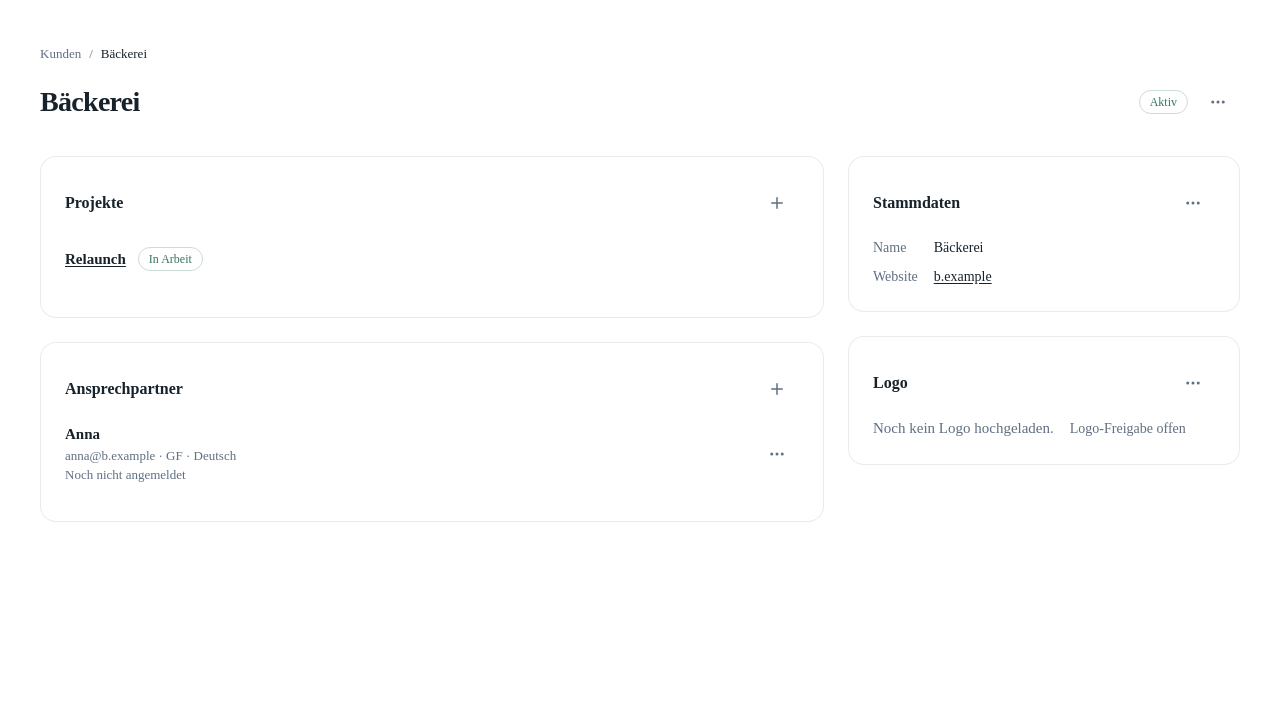
Scenario: Formulare hinter Buttons › AK-7: Kundenseite ohne offenes Formular, Dialoge mit eindeutigen Buttons
Click the button named "Aktionen: Bäckerei" at point(1218, 102), box 1196,80 -> 1240,124
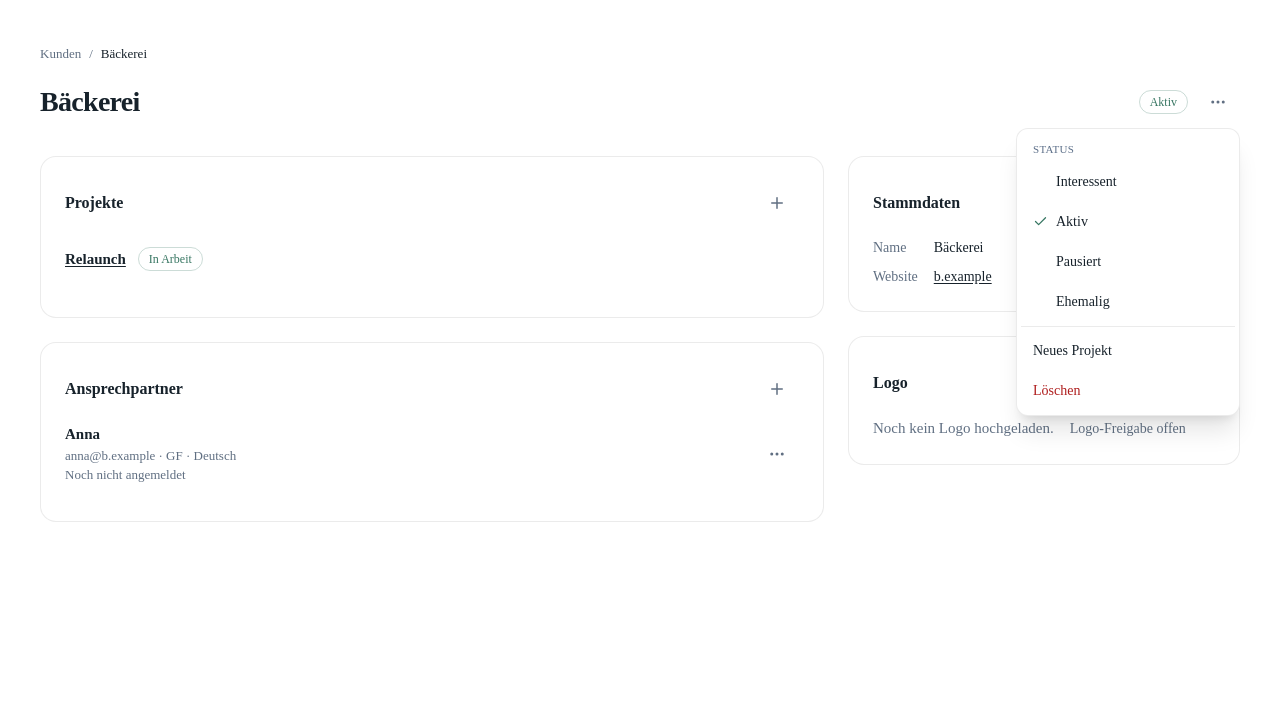
Press Escape in the menu named "Aktionen: Bäckerei", box 1016,128 -> 1240,416
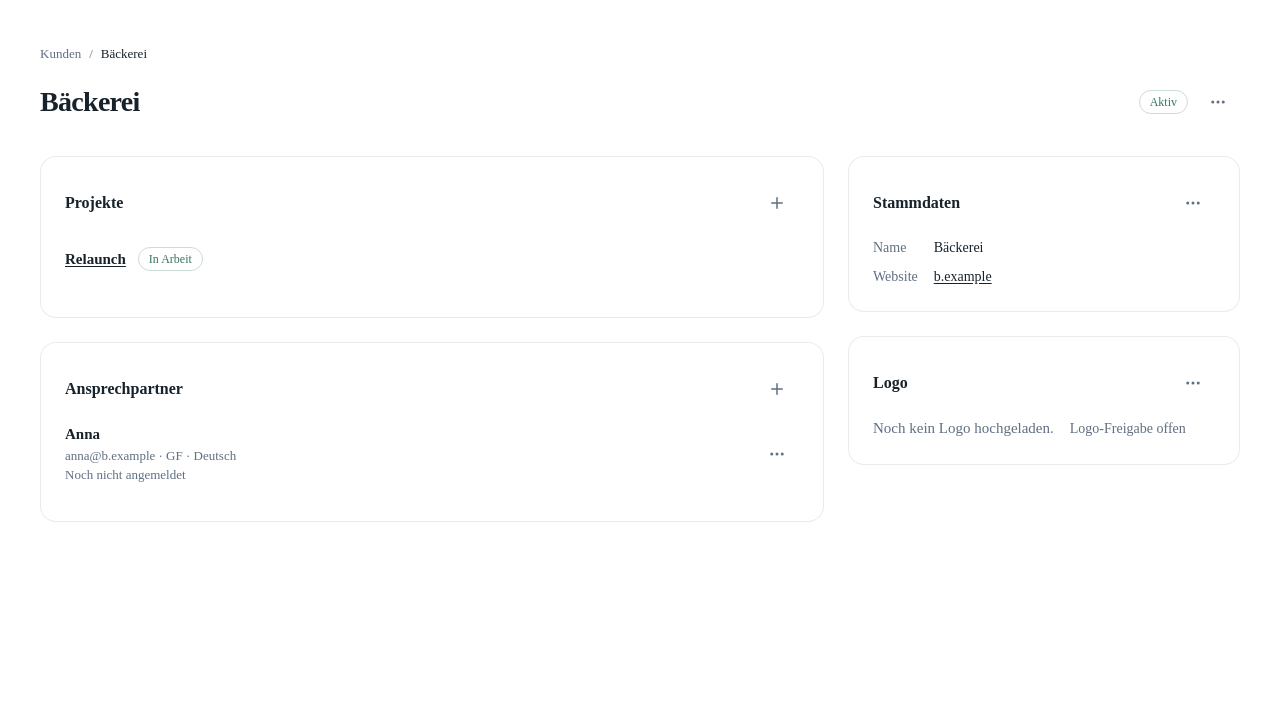
Click the button named "Aktionen: Logo" at point(1193, 383), box 1171,361 -> 1215,405
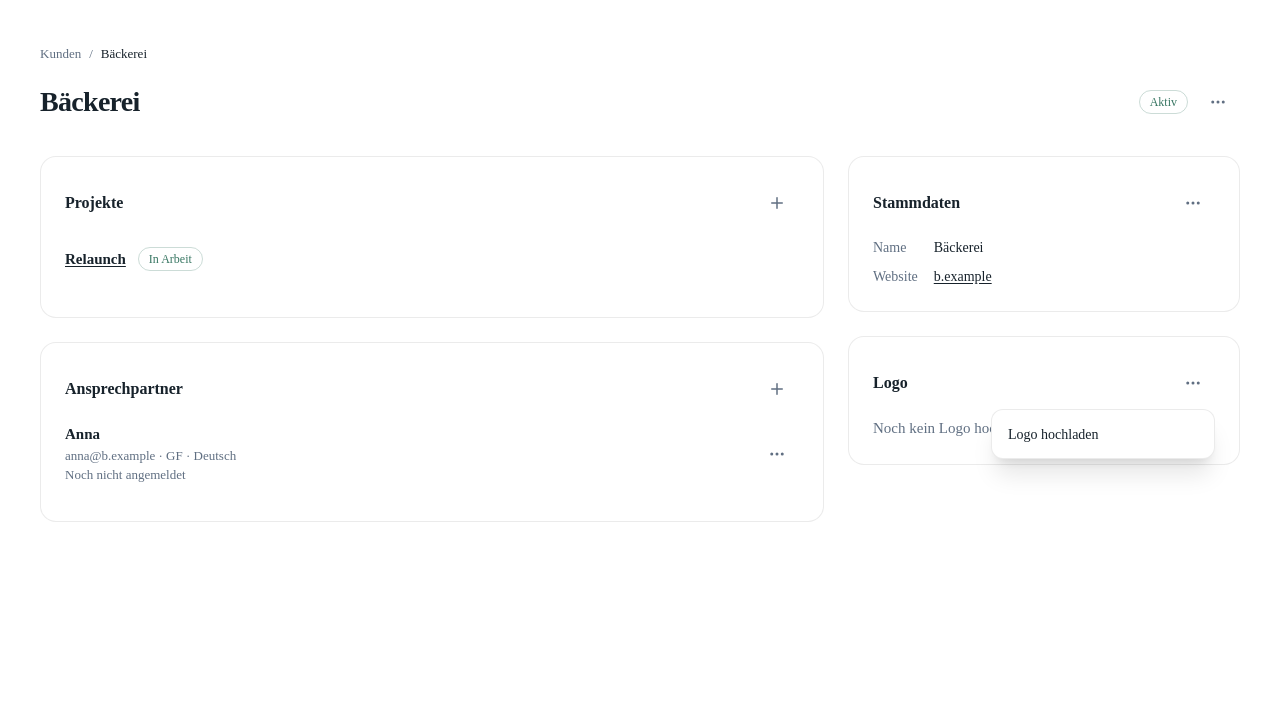
Expected: the menu item "Logo hochladen" is shown, 996,414 -> 1210,454
Press Escape in the menu, box 991,409 -> 1215,459
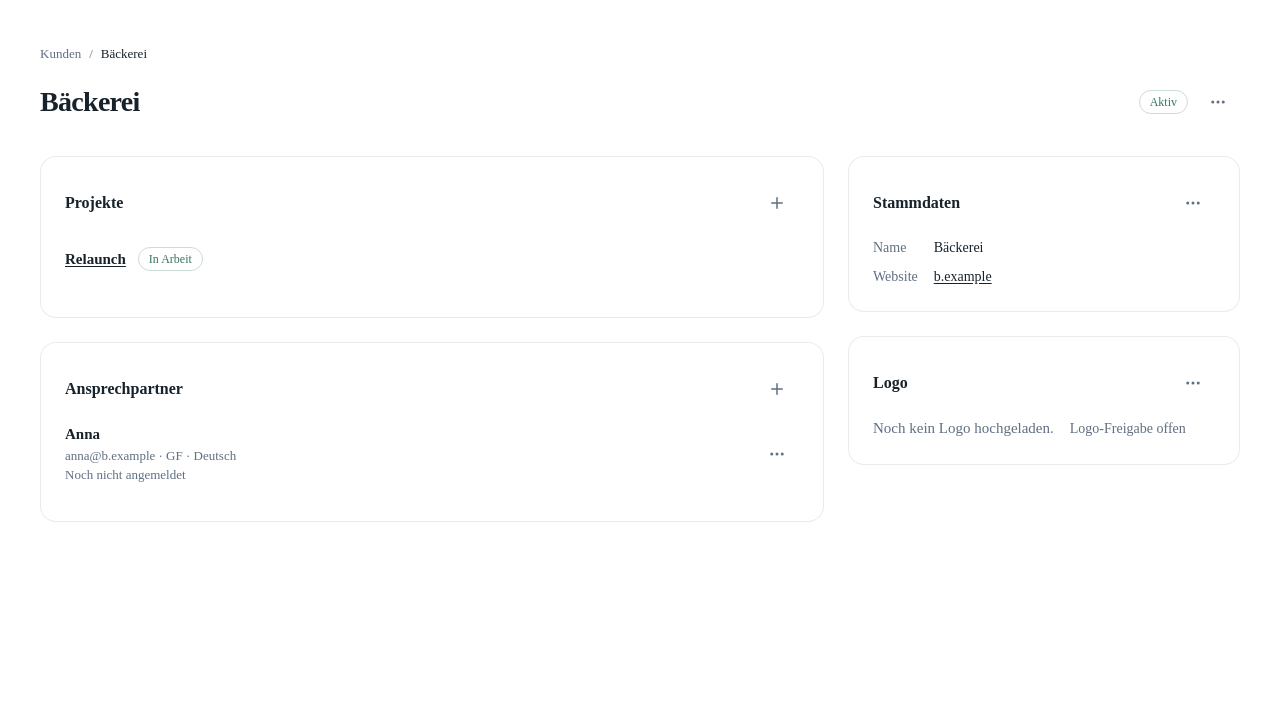
Click the button named "Aktionen: Stammdaten" at point(1193, 203), box 1171,181 -> 1215,225
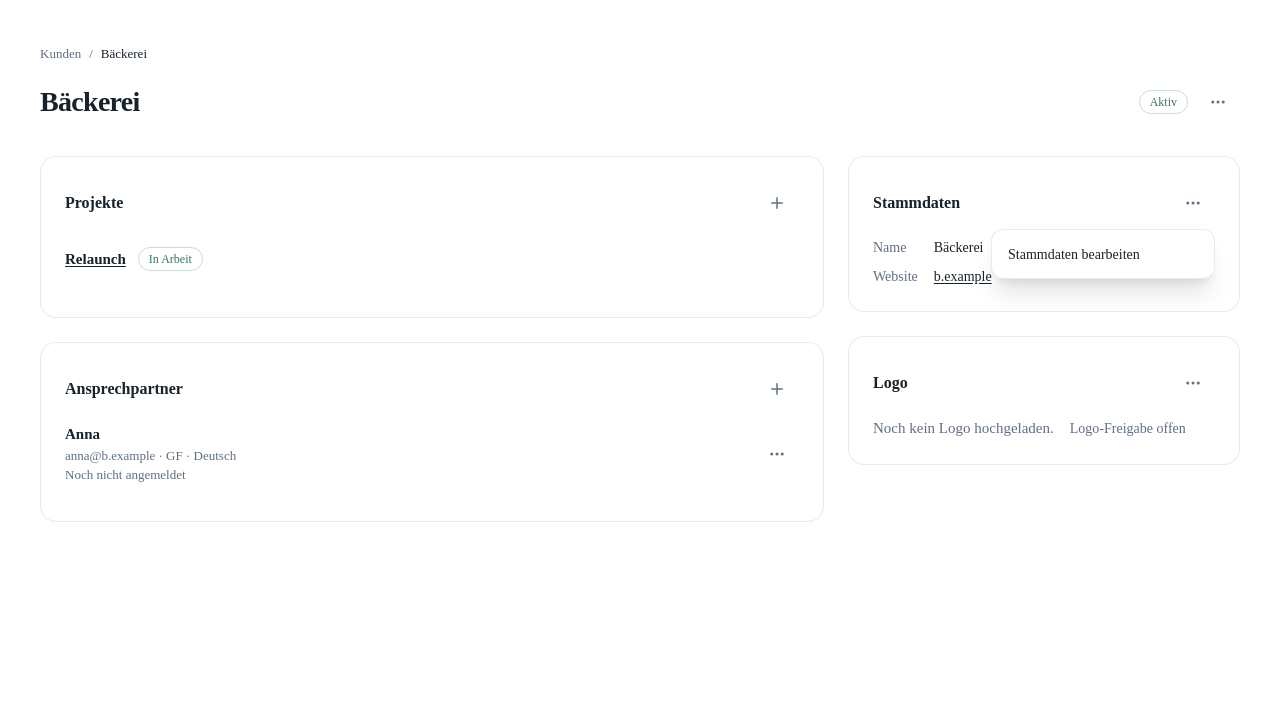
Click the menu item "Stammdaten bearbeiten" at point(1103, 254), box 996,234 -> 1210,274
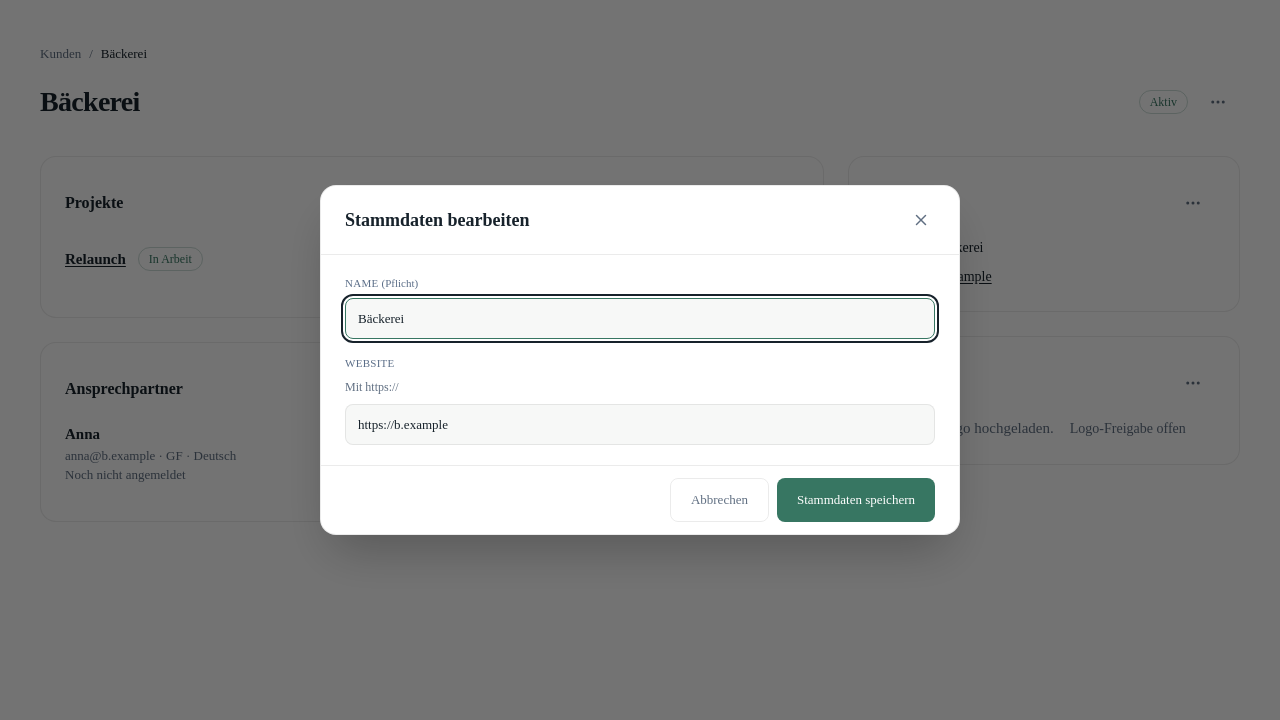
Expected: the field labelled "Name (Pflicht)" holds "Bäckerei", 345,298 -> 935,339
